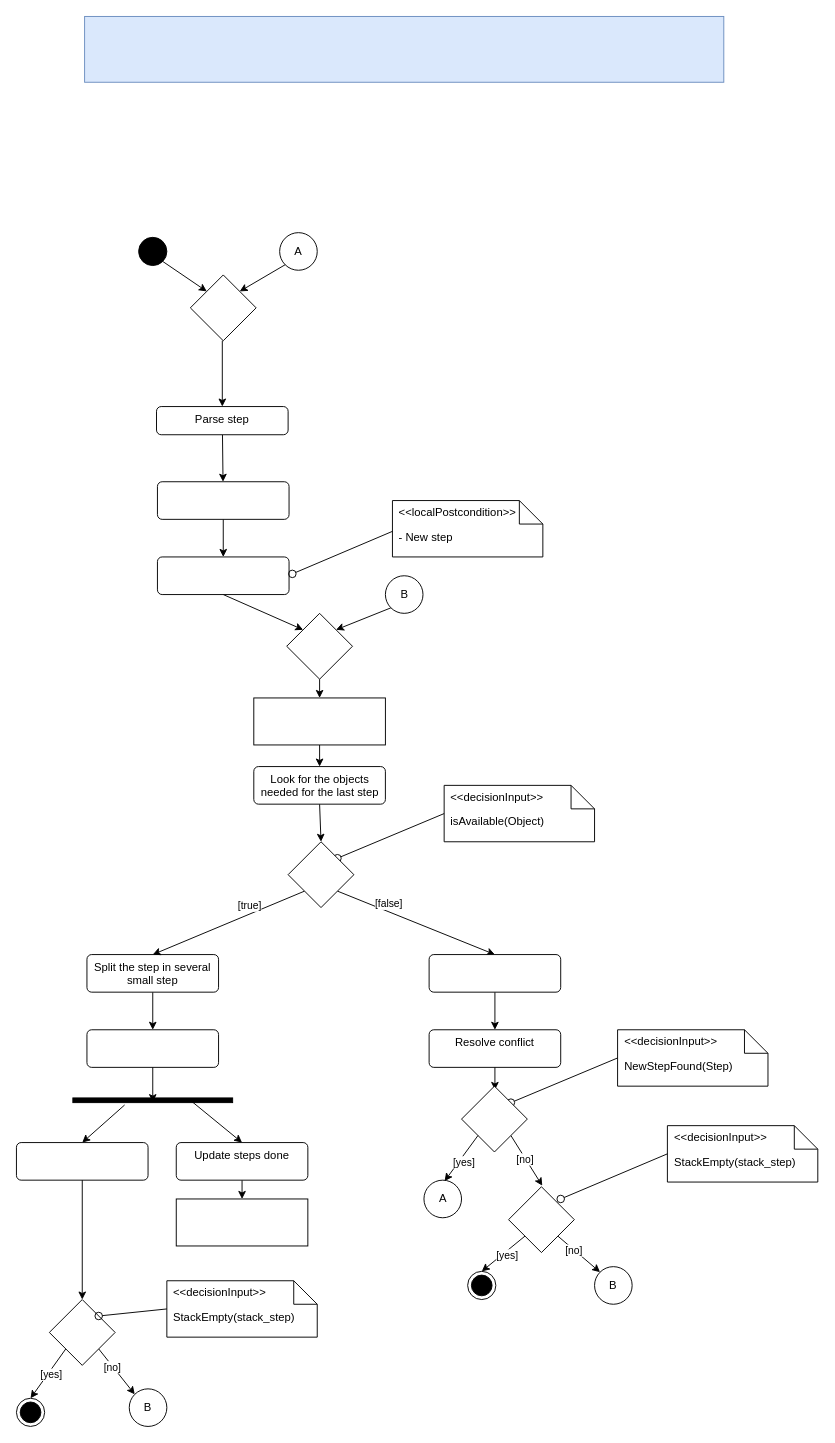
The diagram is 835 pixels wide and 1443 high, and some of its shapes have lost their labels. The shapes that lost their labels are listed below. From the top down, each one's box as (x1, y1, x2, y2) in pixels, then its label:
(84, 16, 724, 82): ACTION PLANNING
(157, 481, 289, 519): Check current and past steps
(157, 556, 289, 595): Add the step in the stack
(253, 697, 385, 745): <<data store>> stack_step
(428, 954, 561, 992): Announce conflict
(86, 1029, 219, 1067): Send small steps to execute
(16, 1142, 148, 1180): Return the sucess of the step
(175, 1198, 308, 1246): <<data store>> steps_done
